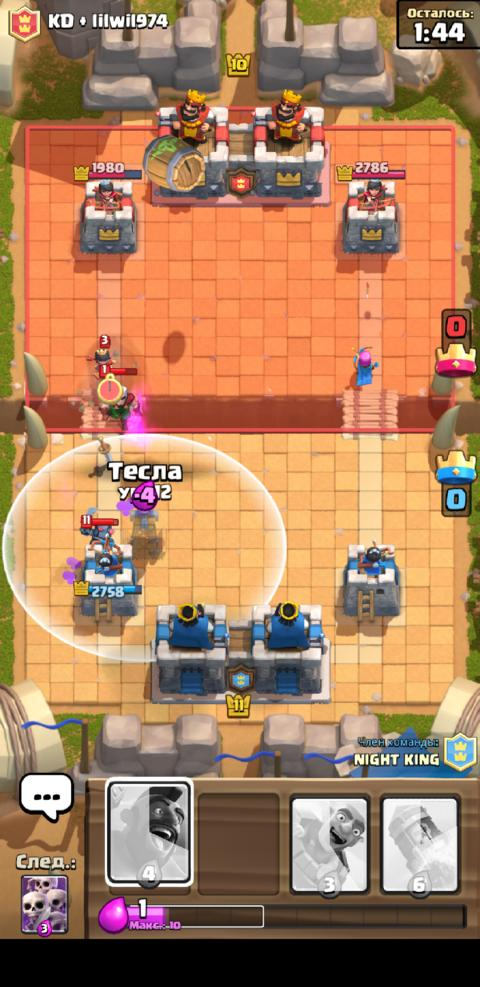ally_archer: (348, 343, 379, 387)
enemy_goblin_barrel: (142, 132, 205, 193)
enemy_magic_archer: (95, 363, 143, 432)
enemy_mini_pekka: (77, 505, 118, 544)
enemy_princess: (84, 333, 114, 380)
